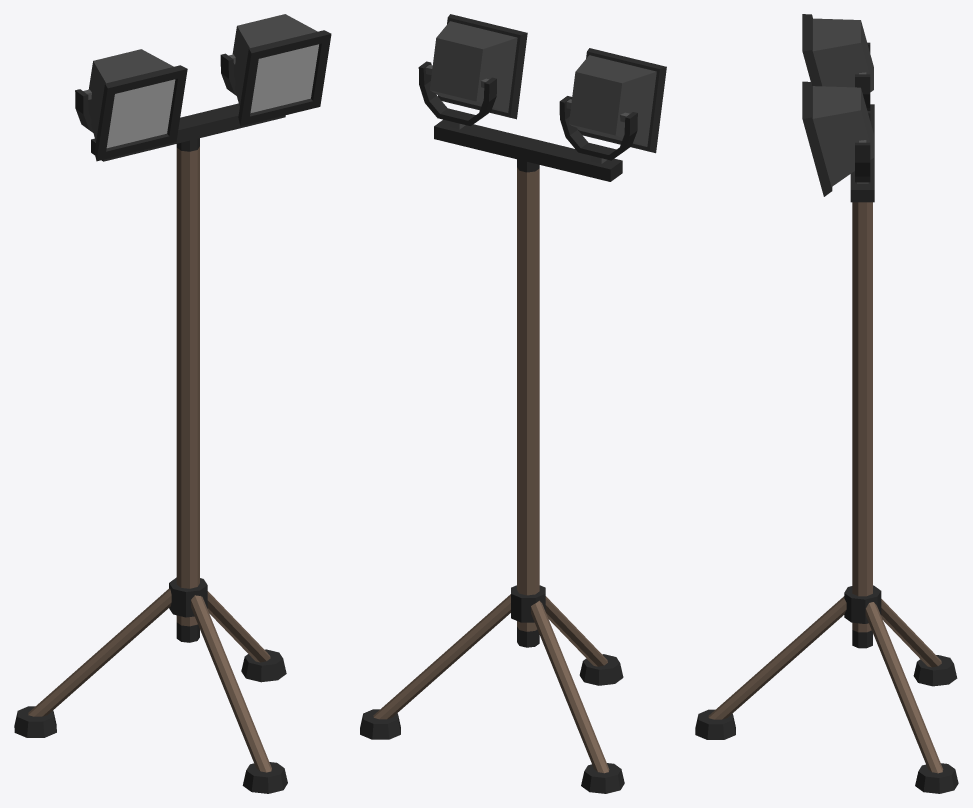
Rendered from Light_02.fbx.
3 views of the same model, side by side, from view 1: azimuth 30°, elevation 25°; view 2: azimuth 150°, elevation 25°; view 3: azimuth 270°, elevation 25° (orthographic). The views are drawn at different scales.
Parts seen in each view (by area): view 1: Light_02; view 2: Light_02; view 3: Light_02.
Part boxes in pixels (box(x1,y1,x2,y2)): Light_02: box(14, 14, 331, 793); Light_02: box(360, 14, 666, 793); Light_02: box(695, 14, 958, 793).
Size of the model in its own units: 60.92 by 150 by 53.79.
